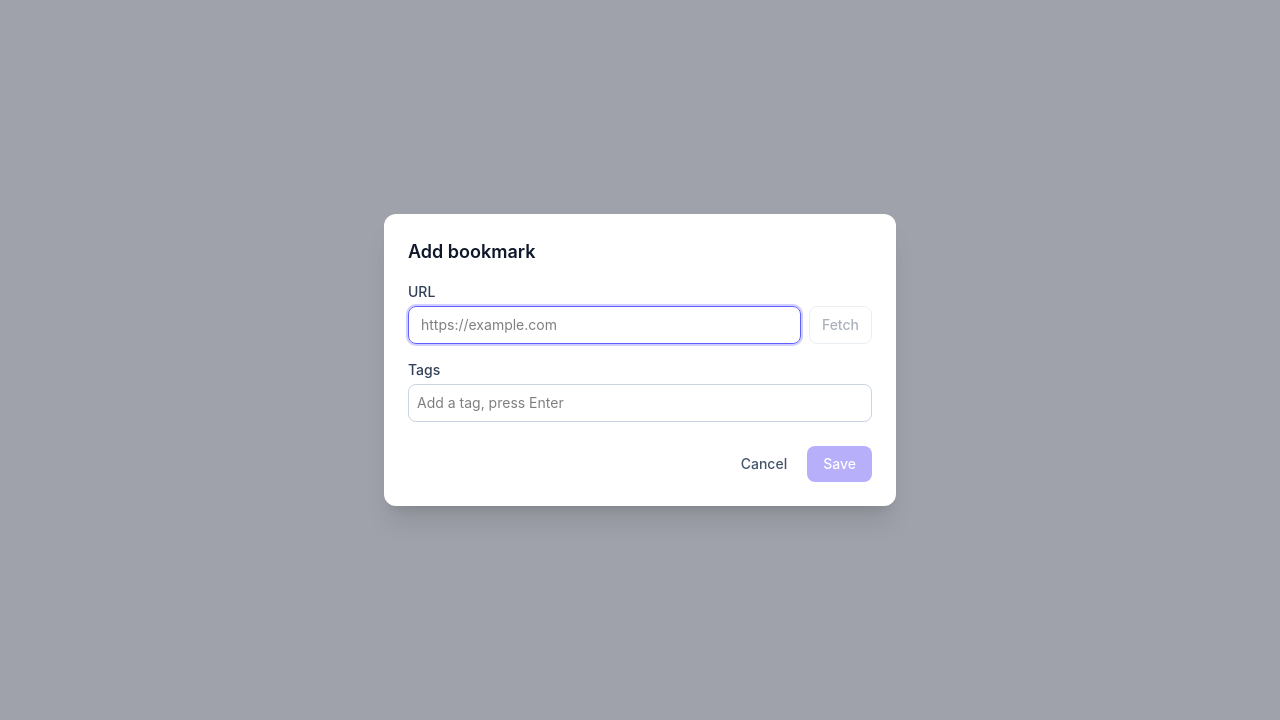
Test: adds and removes tag chips
Type "python" into the field with placeholder "Add a tag, press Enter" at (640, 403), box [417,393,863,413]
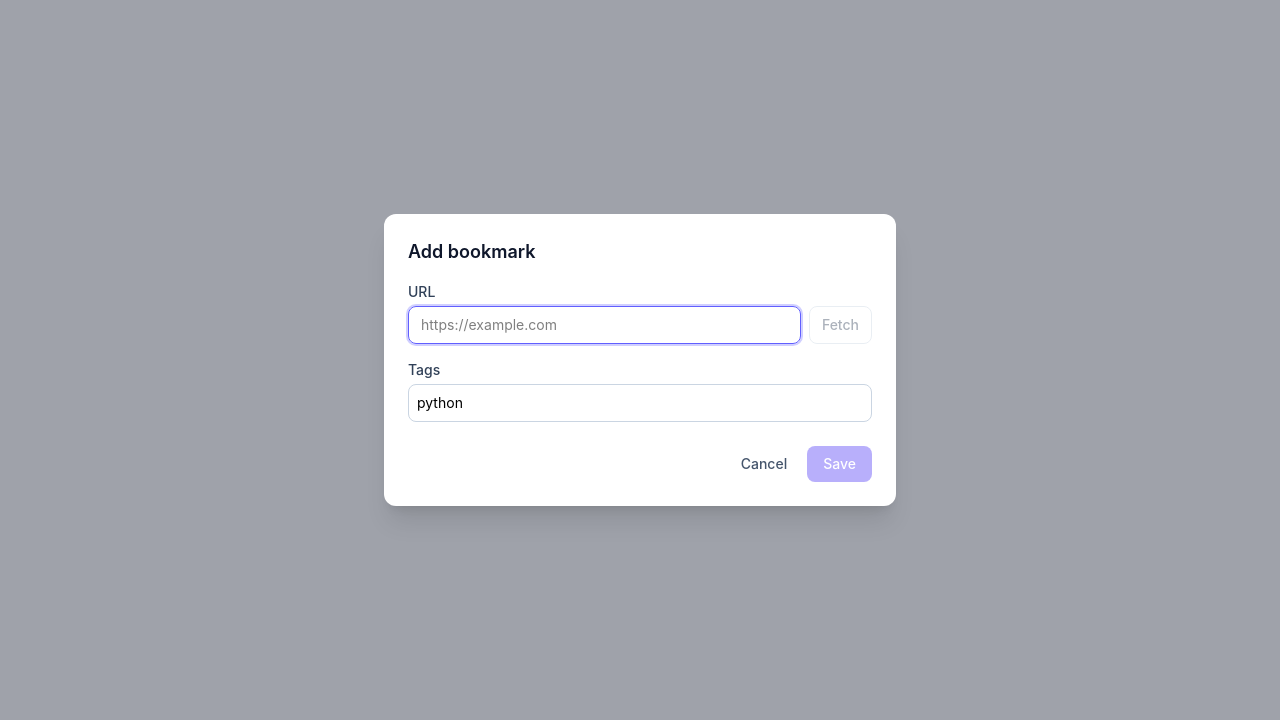
Press Enter in the field with placeholder "Add a tag, press Enter", box [417,393,863,413]
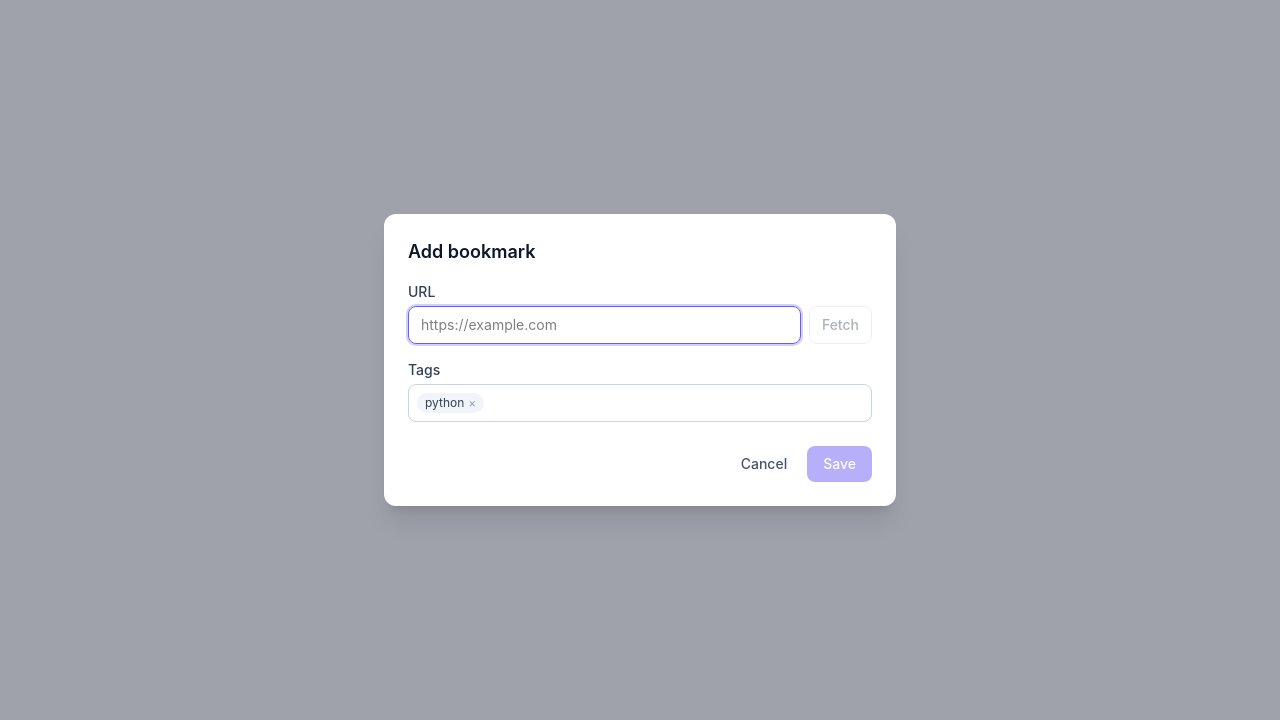
Check: the text "python" is shown, box [425,395,464,410]
Click the button named "Remove python" at (472, 403), box [468,395,476,411]
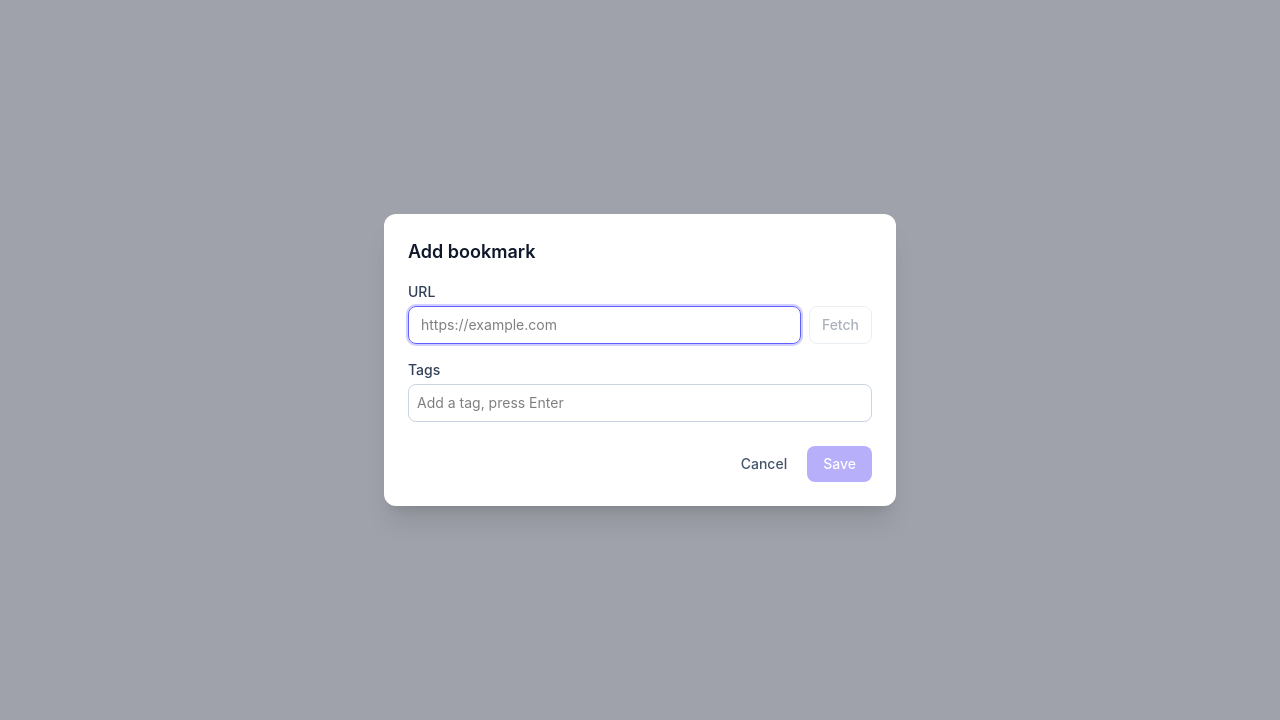
Check: the text "python" is gone
